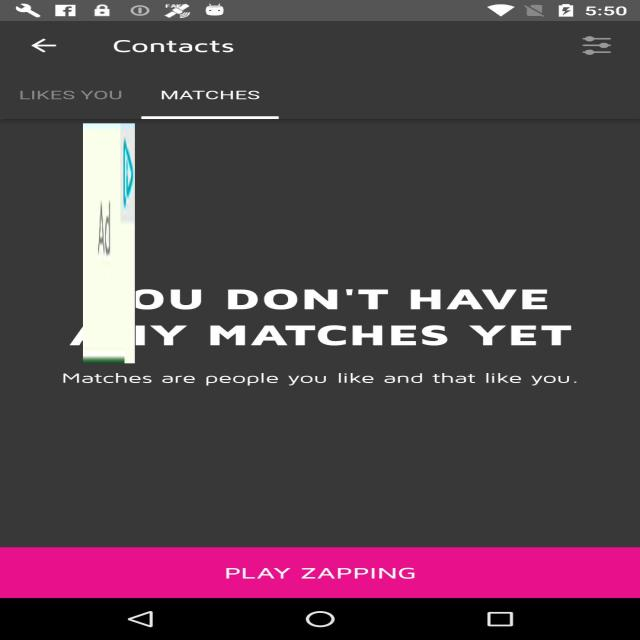sneaking: (83, 124, 136, 364)
